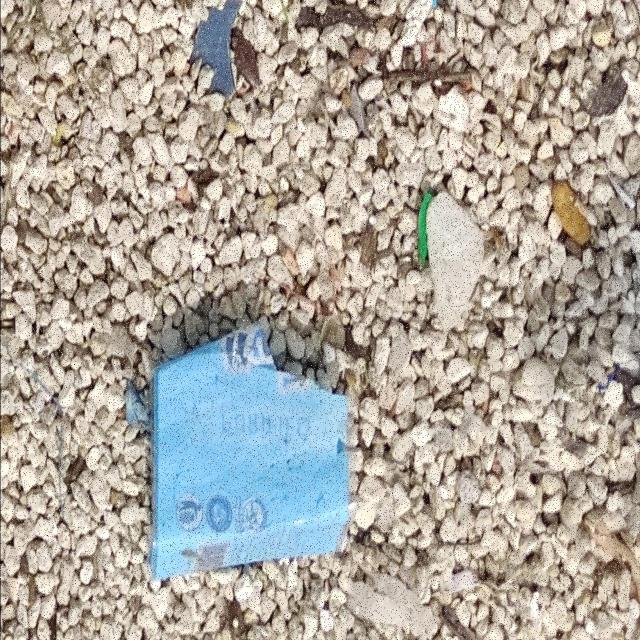plastic_waste: (151, 328, 351, 581)
